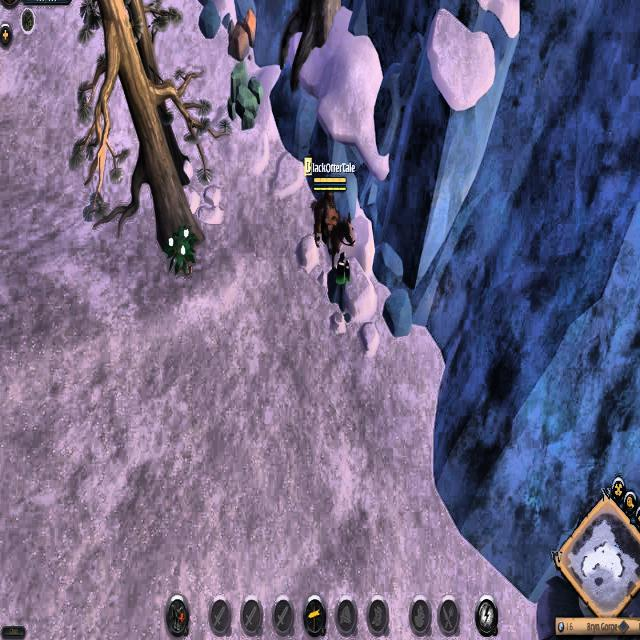limestone: (227, 8, 260, 66)
sandstone: (225, 61, 265, 130)
tinore: (323, 247, 358, 314)
